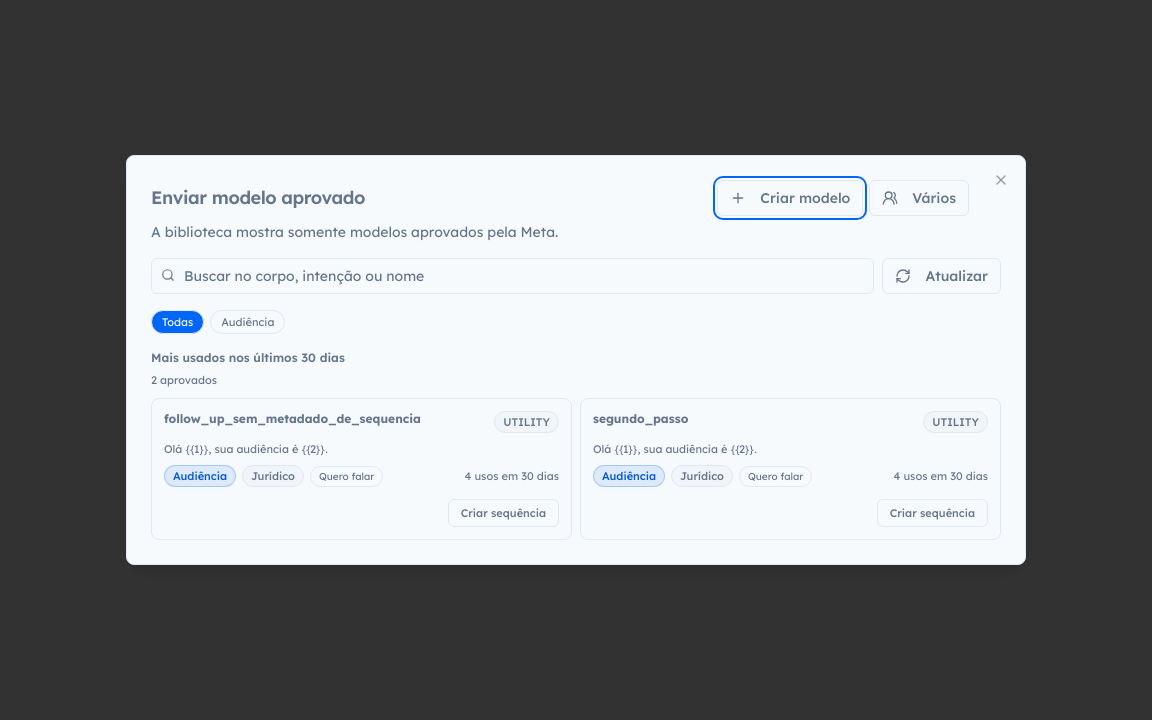
Test: ConversationTemplatePicker › permite criar sequência a partir de template aprovado sem isSequence no cartão
This screenshot has width=1152, height=720.
Click the 1st button "Criar sequência".
click(503, 513)  # box [448, 499, 559, 527]
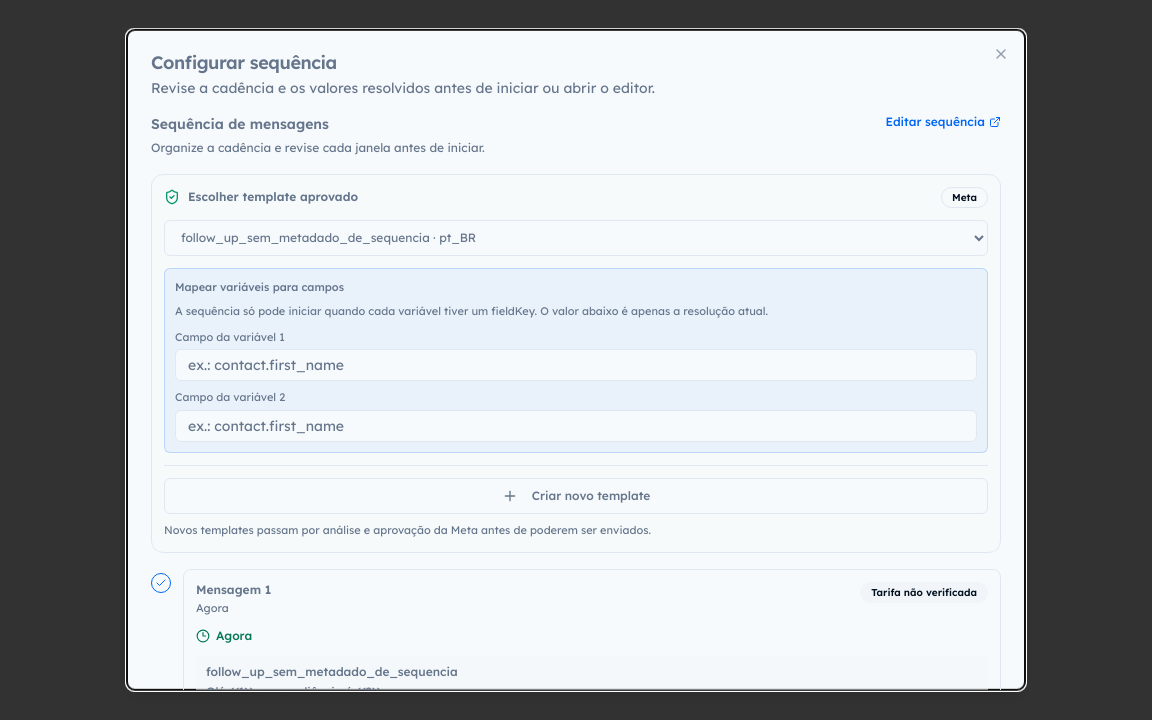
Now the element with test id "sequence-builder" is shown, box [151, 114, 1001, 691]
Now the text "Sequência de mensagens" is shown, box [151, 115, 329, 133]
